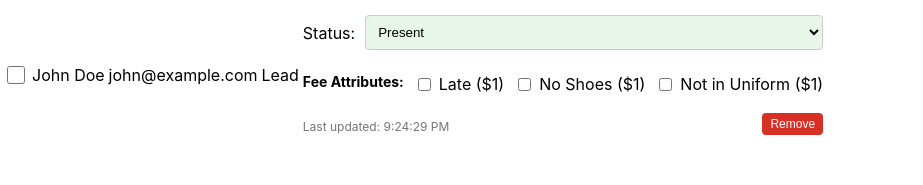
Test case: StudentAttendanceRow › should disable fee attributes for Absent, Medical Absence, and Holiday statuses
Change to Absent
Select "Absent ($5)" in the dropdown with test id "attendance-select-student1" at (594, 32), box left=365, top=15, right=823, bottom=50
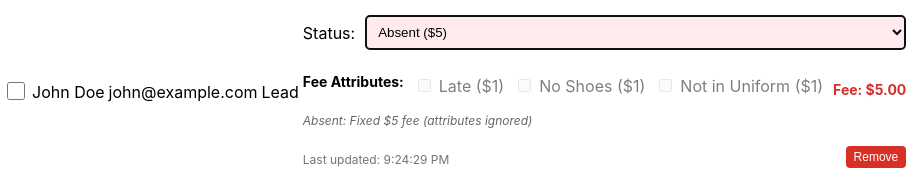
Expected: the text "Absent: Fixed $5 fee (attributes ignored)" is shown, left=303, top=113, right=532, bottom=128
Change to Medical Absence
Select "Medical Absence" in the dropdown with test id "attendance-select-student1" at (636, 32), box left=365, top=15, right=906, bottom=50
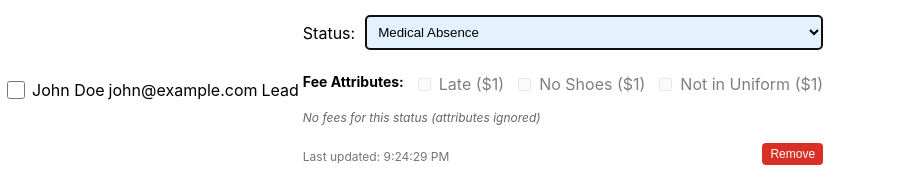
Expected: the text "No fees for this status (attributes ignored)" is shown, left=303, top=110, right=541, bottom=125
